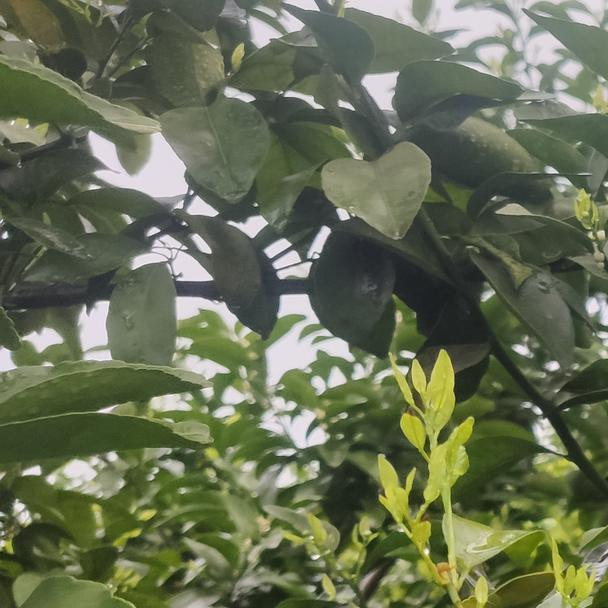shoot: (392, 356, 485, 501), (372, 462, 449, 590)
